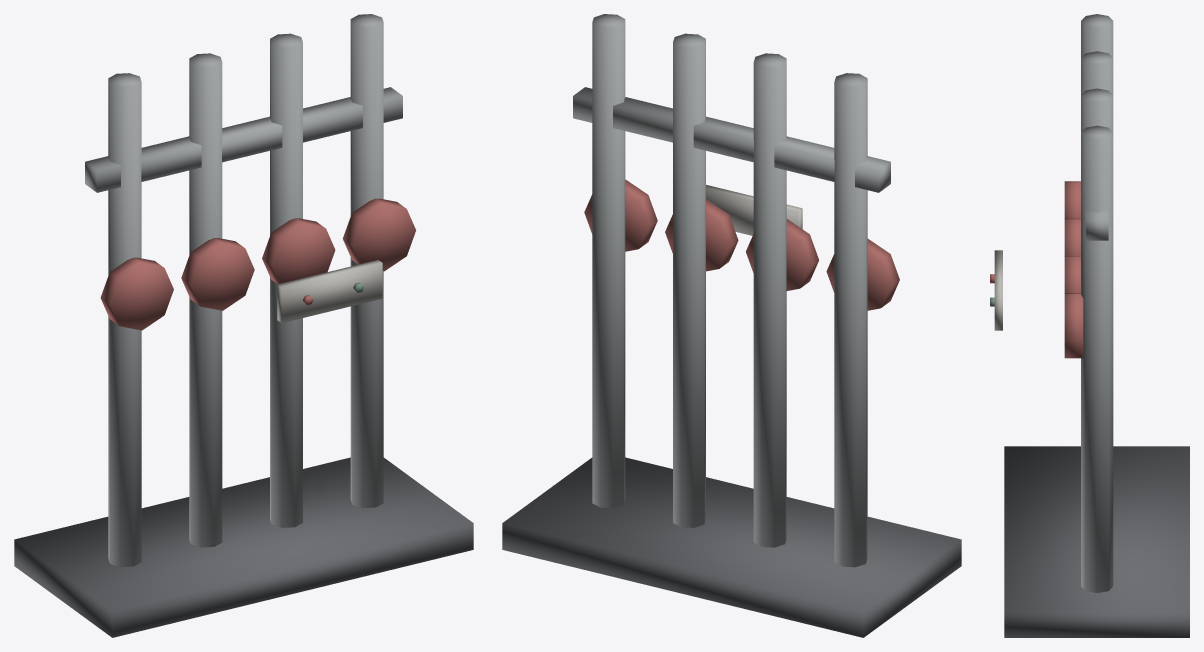
The model's file is pipe_valve_station.glb.
3 renders of one model, left to right at view 1: azimuth 30°, elevation 25°; view 2: azimuth 150°, elevation 25°; view 3: azimuth 270°, elevation 25°, orthographic. The views are drawn at different scales.
Visible parts, largest first — view 1: world; view 2: world; view 3: world.
Part boxes in pixels (x1=…): world: x1=14, y1=14, x2=473, y2=637; world: x1=502, y1=14, x2=961, y2=637; world: x1=990, y1=14, x2=1189, y2=637.
Size of the model in its own units: 0.85 by 1.14 by 0.431.
